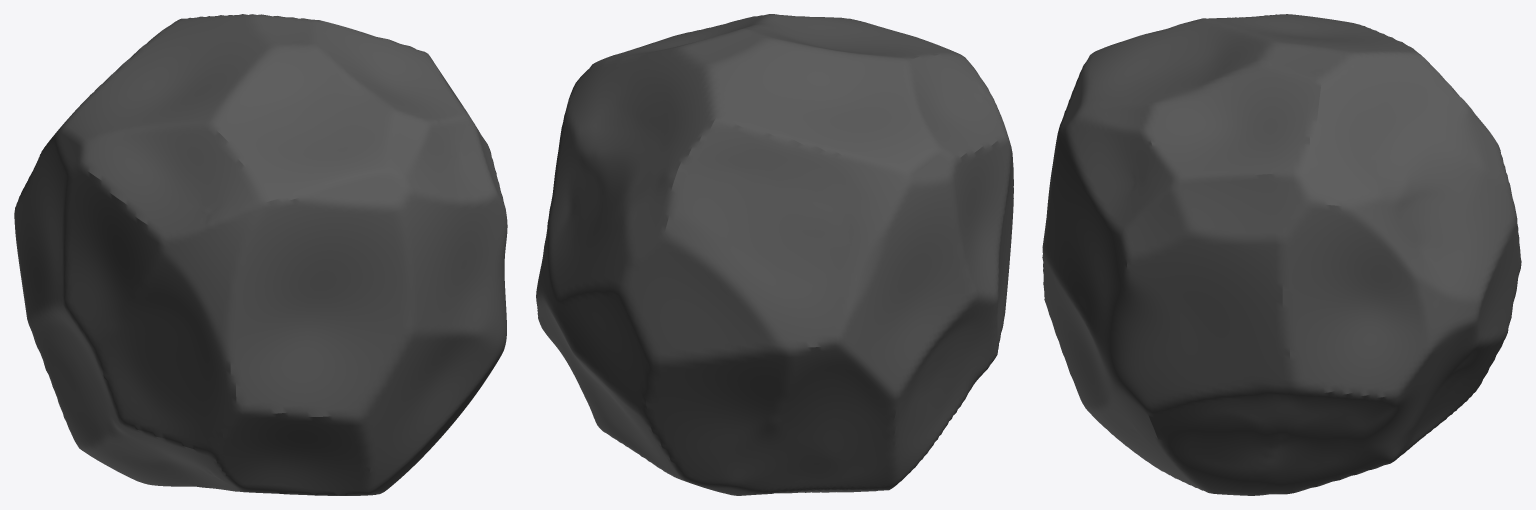
File: stone3.fbx
The picture shows the model from 3 angles, left to right: view 1: azimuth 30°, elevation 25°; view 2: azimuth 150°, elevation 25°; view 3: azimuth 270°, elevation 25°; orthographic projection. The views are drawn at different scales.
Parts seen in each view (by area): view 1: Cube.002; view 2: Cube.002; view 3: Cube.002.
Boxes of the visible parts, bbox=[...] form: Cube.002: bbox=[14, 14, 507, 495]; Cube.002: bbox=[536, 14, 1013, 495]; Cube.002: bbox=[1042, 14, 1521, 495].
Size of the model in its own units: 0.8159 by 0.8024 by 0.8476.
